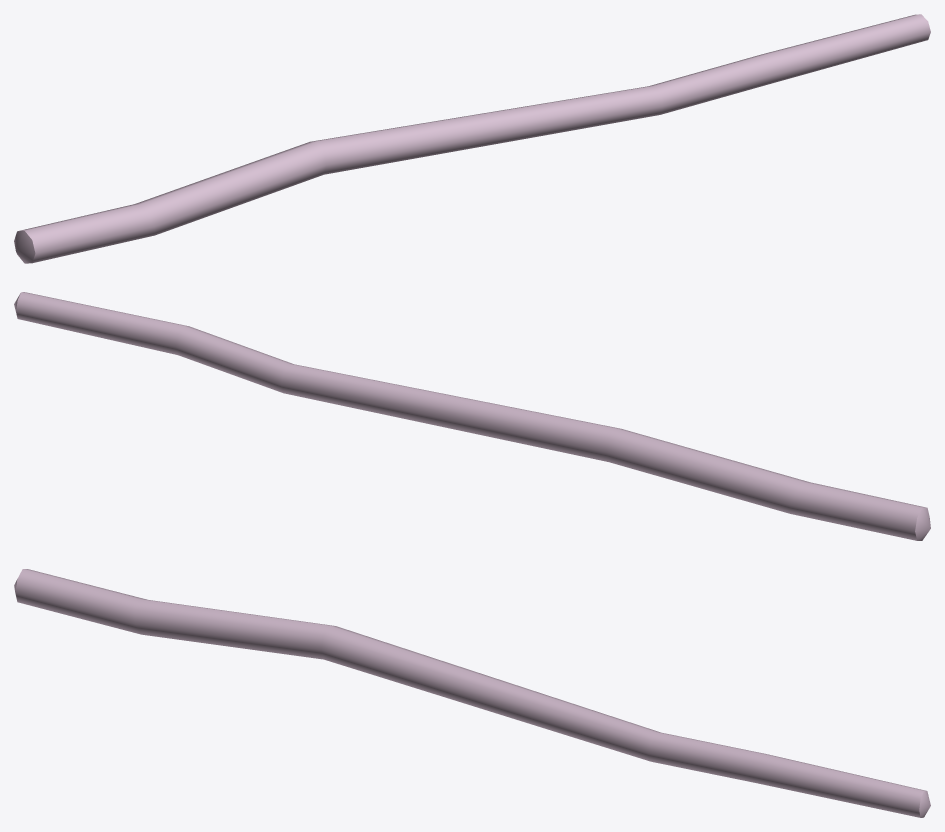
The model's file is trunk_01.fbx.
3 views of the same model, one above another, from view 1: azimuth 30°, elevation 25°; view 2: azimuth 150°, elevation 25°; view 3: azimuth 330°, elevation 25° (orthographic).
Visible parts, largest first — view 1: Cylinder.005; view 2: Cylinder.005; view 3: Cylinder.005.
Part boxes in pixels (box(x1,y1,x2,y2)): Cylinder.005: box(14, 14, 930, 263); Cylinder.005: box(14, 292, 930, 540); Cylinder.005: box(14, 569, 930, 817).
Bounding box in the file's own units: 4.06 × 0.2128 × 0.2114.
